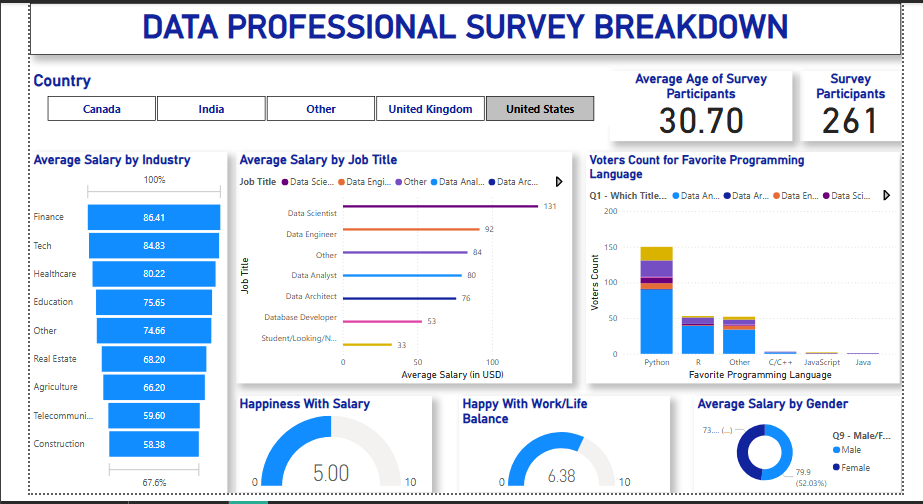

This screenshot's page, from the dashboard's own definition file:
{"tool":"powerbi","page":{"name":"Dashboard","canvas":[1280,720],"ordinal":0},"visuals":[{"type":"textbox","box":[0,0,1279.8,76.4],"z":0},{"type":"card","title":"Survey Participants","fields":{"Values":["Count(Data Professional Survey.Unique ID)"]},"box":[1130.7,100.5,149.3,103.5],"z":1000},{"type":"card","title":"Average Age of Survey Participants","fields":{"Values":["Avg(Data Professional Survey.Q10 - Current Age)"]},"box":[852.8,100.5,267.5,103.5],"z":2000},{"type":"clusteredBarChart","title":"Average Salary by Job Title","fields":{"Y":["Avg(Data Professional Survey.Average Salary (in USD))"],"Category":["Data Professional Survey.Q1 - Which Title Best Fits your Current Role?.1"],"Series":["Data Professional Survey.Q1 - Which Title Best Fits your Current Role?.1"]},"box":[303,218.8,493.7,340],"z":3000},{"type":"columnChart","title":"Voters Count for Favorite Programming Language","fields":{"Category":["Data Professional Survey.Q5 - Favorite Programming Language.1"],"Y":["CountNonNull(Data Professional Survey.Unique ID)"],"Series":["Data Professional Survey.Q1 - Which Title Best Fits your Current Role?.1"]},"box":[817.4,218.8,461.2,340],"z":4000},{"type":"gauge","title":"Happy With Work/Life Balance","fields":{"Y":["Avg(Data Professional Survey.Q6 - How Happy are you in your Current Position with the following? (Work/Life Balance))"],"MinValue":["Min(Data Professional Survey.Q6 - How Happy are you in your Current Position with the following? (Work/Life Balance))"],"MaxValue":["Max(Data Professional Survey.Q6 - How Happy are you in your Current Position with the following? (Work/Life Balance))1"]},"box":[629.7,577.9,310.4,141.9],"z":6000},{"type":"gauge","title":"Happiness With Salary","fields":{"Y":["Avg(Data Professional Survey.Q6 - How Happy are you in your Current Position with the following? (Salary))"],"MaxValue":["Max(Data Professional Survey.Q6 - How Happy are you in your Current Position with the following? (Salary))1"],"MinValue":["Min(Data Professional Survey.Q6 - How Happy are you in your Current Position with the following? (Salary))2"]},"box":[303,577.9,288.2,141.9],"z":7000},{"type":"donutChart","title":"Average Salary by Gender","fields":{"Category":["Data Professional Survey.Q9 - Male/Female?"],"Y":["Avg(Data Professional Survey.Average Salary (in USD))"]},"box":[975.5,577.9,304.5,141.9],"z":8000},{"type":"slicer","title":"Country","fields":{"Values":["Data Professional Survey.Q11 - Which Country do you live in?.1"]},"box":[0,100.5,852.8,79.8],"z":8001},{"type":"funnel","title":"Average Salary by Industry","fields":{"Category":["Data Professional Survey.Q4 - What Industry do you work in?.1"],"Y":["Avg(Data Professional Survey.Average Salary (in USD))"]},"box":[0,218.8,289.7,501.1],"z":8002}]}

Visuals, with their boxes on the page's 1280x720 design canvas (x1, y1, x2, y2). These are canvas units, not pixel positions in the 923x504 screenshot, which may show the page scaled, cropped or inside an application window:
textbox: 0 0 1280 76
"Survey Participants" card: 1131 100 1280 204
"Average Age of Survey Participants" card: 853 100 1120 204
"Average Salary by Job Title" clusteredBarChart: 303 219 797 559
"Voters Count for Favorite Programming Language" columnChart: 817 219 1279 559
"Happy With Work/Life Balance" gauge: 630 578 940 720
"Happiness With Salary" gauge: 303 578 591 720
"Average Salary by Gender" donutChart: 976 578 1280 720
"Country" slicer: 0 100 853 180
"Average Salary by Industry" funnel: 0 219 290 720
